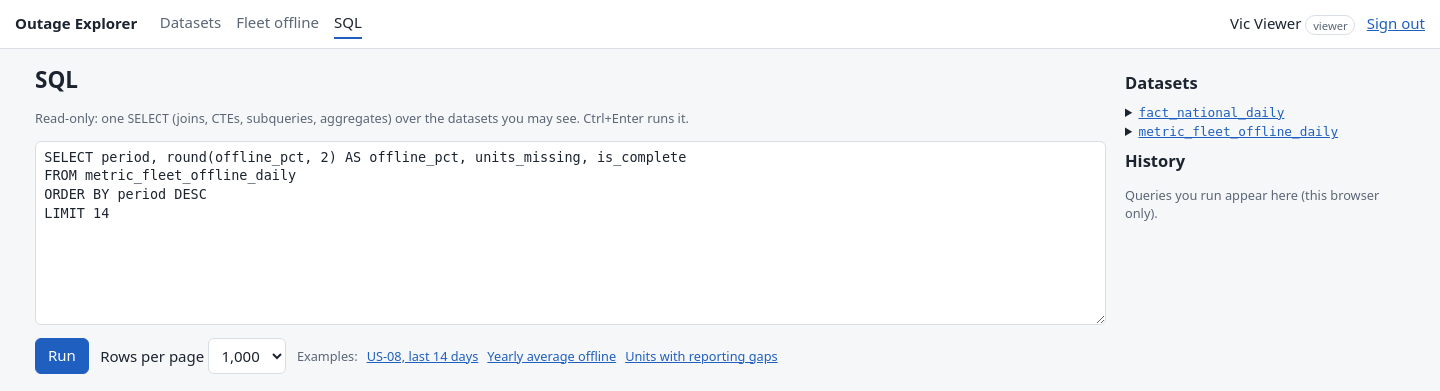
Test case: SQL page › lists only the caller's datasets and inserts a name at the cursor
Replace the text in the text box named "SQL query" with "SELECT * FROM " at [571, 232], box [35, 140, 1106, 324]
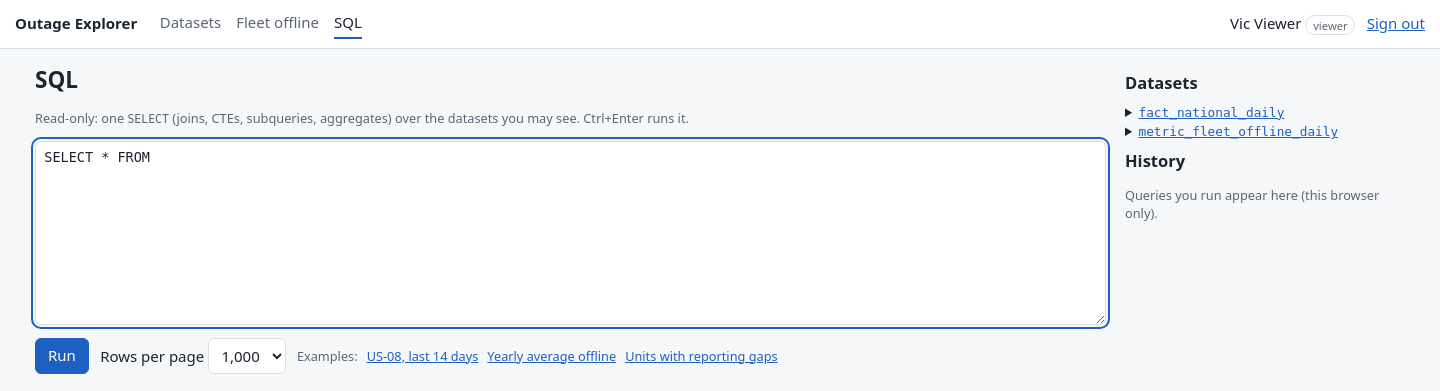
Click the button "metric_fleet_offline_daily" at [1238, 132], box [1138, 123, 1338, 142]
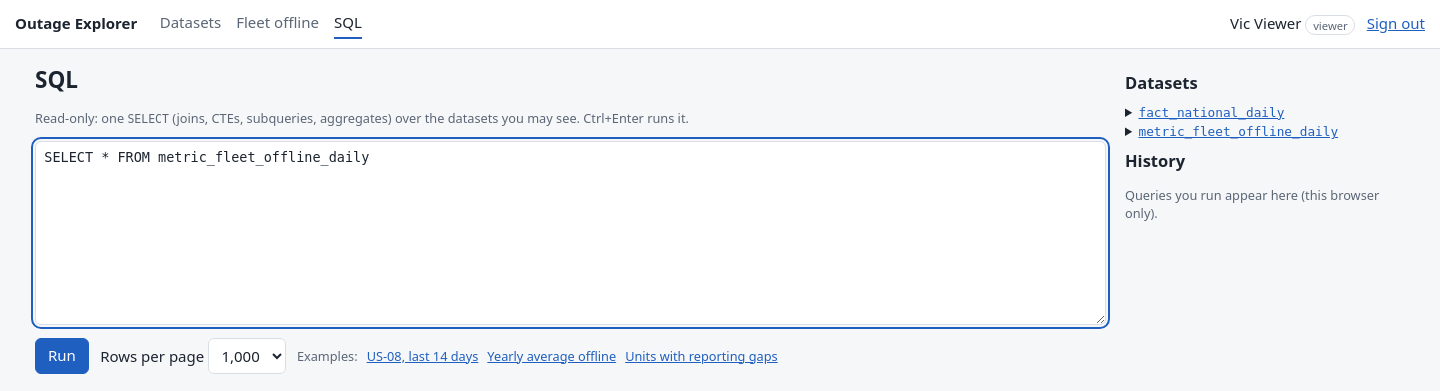
Expected: the text box named "SQL query" holds "SELECT * FROM metric_fleet_offline_daily", [35, 140, 1106, 324]
